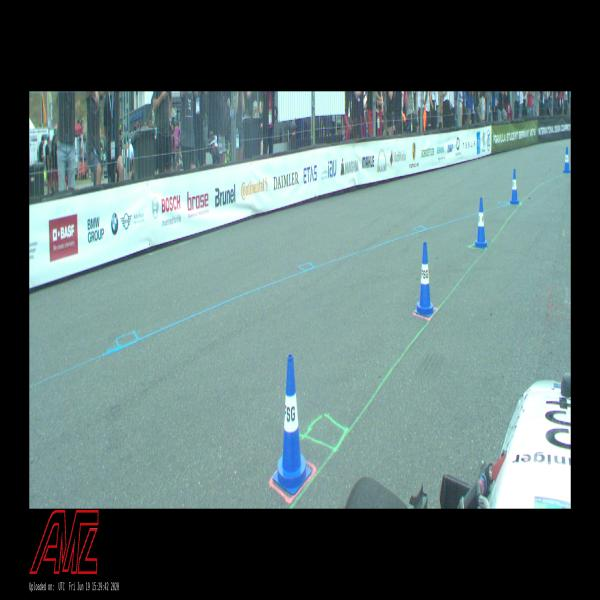blue_cone: (273, 353, 311, 496), (415, 242, 435, 318), (473, 197, 488, 249), (510, 169, 519, 204), (564, 148, 570, 174)
